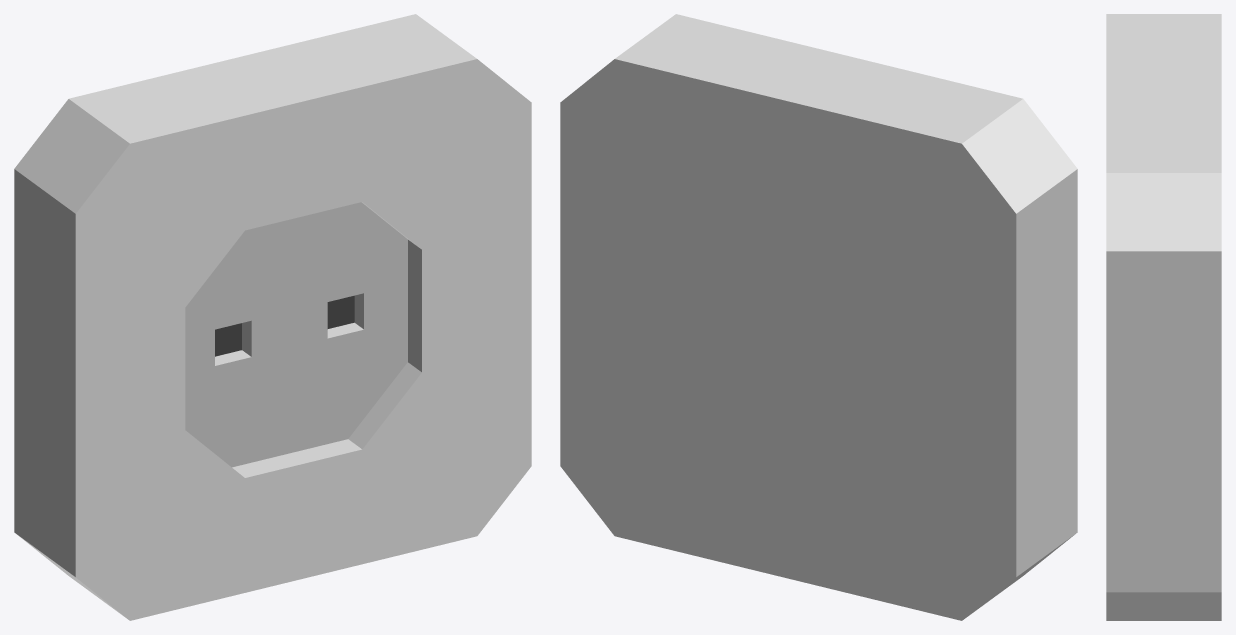
Rendered from Socket4_C1.fbx.
3 views of the same model, side by side, from view 1: azimuth 30°, elevation 25°; view 2: azimuth 150°, elevation 25°; view 3: azimuth 270°, elevation 25° (orthographic). The views are drawn at different scales.
Visible parts, largest first — view 1: Socket4_C1; view 2: Socket4_C1; view 3: Socket4_C1.
Boxes of the visible parts, left/top/right/bottom form: Socket4_C1: left=14, top=14, right=531, bottom=620; Socket4_C1: left=560, top=14, right=1077, bottom=620; Socket4_C1: left=1106, top=14, right=1221, bottom=620.
Size of the model in its own units: 8.44 by 8.44 by 1.97.
